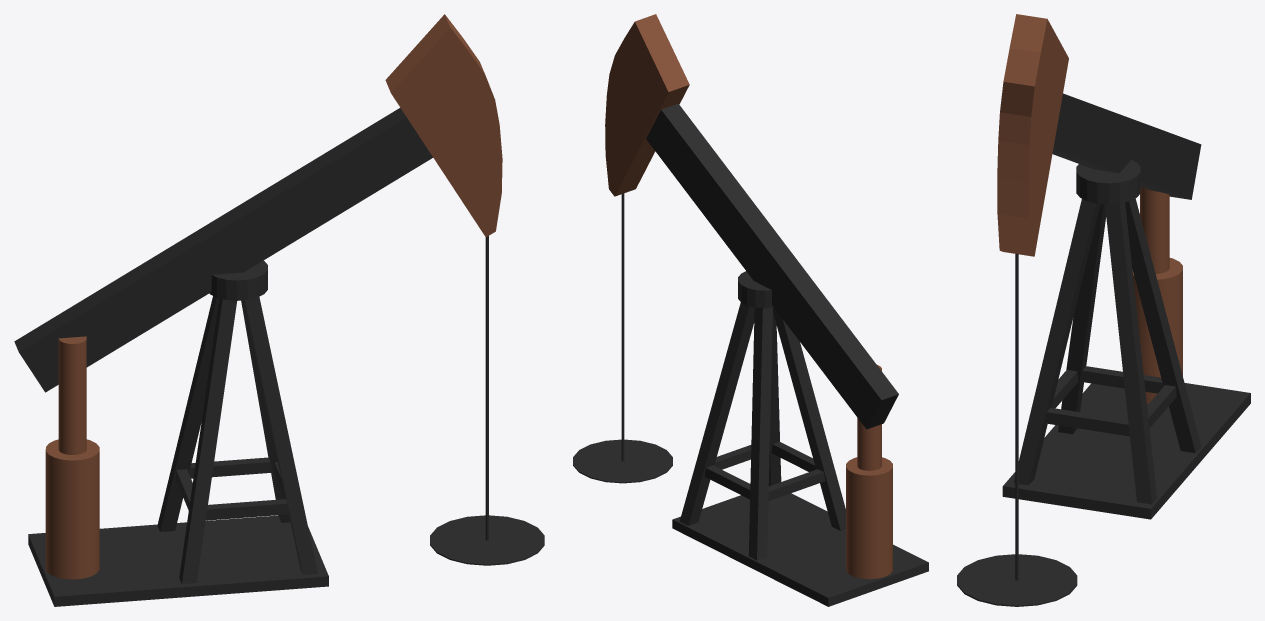
Rendered from fZykGFywa5D.glb.
The picture shows the model from 3 angles, left to right: view 1: azimuth 30°, elevation 25°; view 2: azimuth 150°, elevation 25°; view 3: azimuth 270°, elevation 25°; orthographic projection. The views are drawn at different scales.
Parts seen in each view (by area): view 1: Box001, Cylinder002; view 2: Box001, Cylinder002; view 3: Box001, Cylinder002.
Part boxes in pixels (<box>): Box001: <box>14,108,544,606</box>; Cylinder002: <box>45,14,502,579</box>; Box001: <box>573,103,928,606</box>; Cylinder002: <box>605,14,892,579</box>; Box001: <box>957,93,1250,606</box>; Cylinder002: <box>997,14,1182,403</box>.
Bounding box in the file's own units: 0.8861 × 1 × 0.4856.
